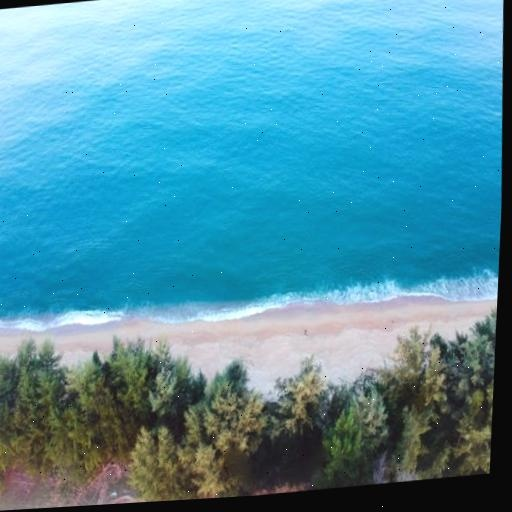tree-top: (200, 366, 268, 456), (0, 341, 70, 428), (390, 329, 443, 417), (439, 316, 497, 389), (174, 411, 223, 497), (48, 413, 99, 487), (280, 361, 328, 438), (132, 432, 181, 503), (321, 421, 368, 488), (459, 388, 493, 475), (110, 331, 152, 398), (388, 405, 432, 465), (355, 377, 391, 445), (73, 365, 117, 419), (148, 343, 183, 409), (0, 405, 17, 465)
